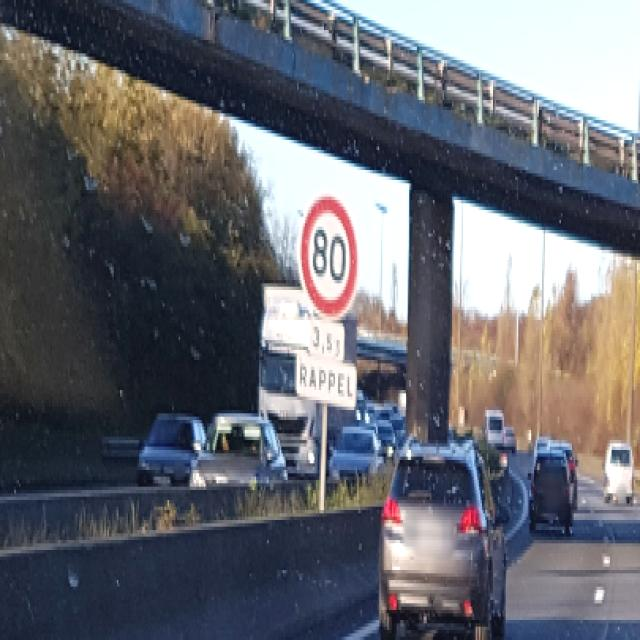speed_80: (299, 194, 362, 320)
